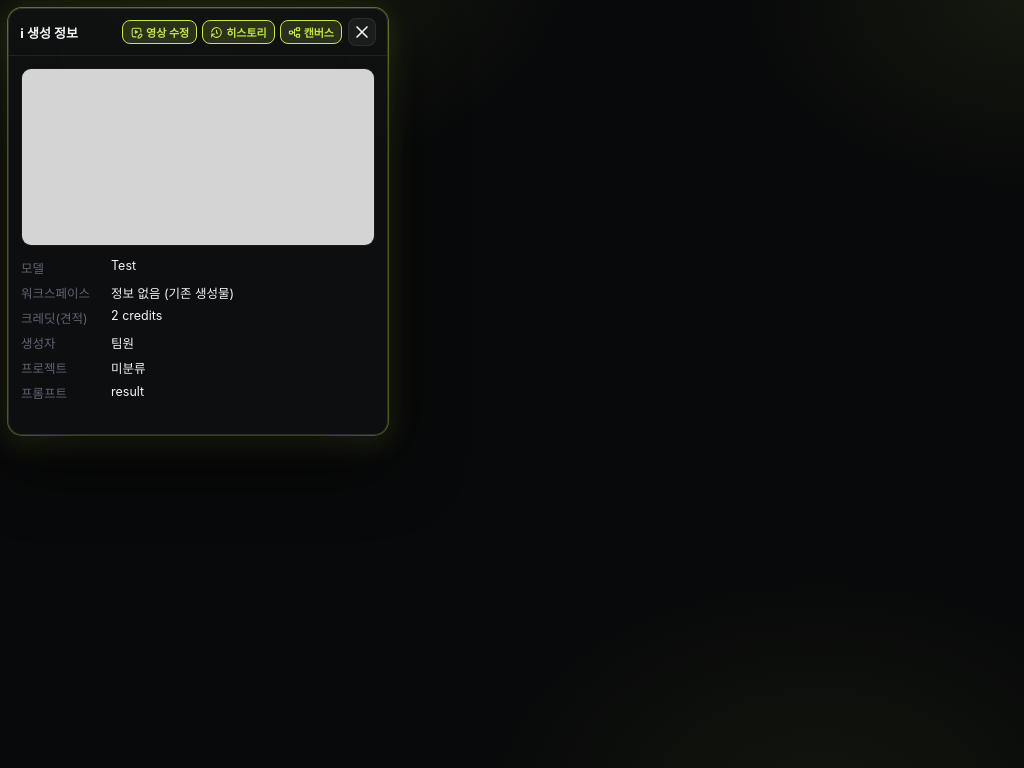
Test: narration generation › shows only the matching edit button in the header, left of history
The width and height of the screenshot is (1024, 768).
Click the button "영상 수정" at (160, 32), box [122, 20, 197, 44]
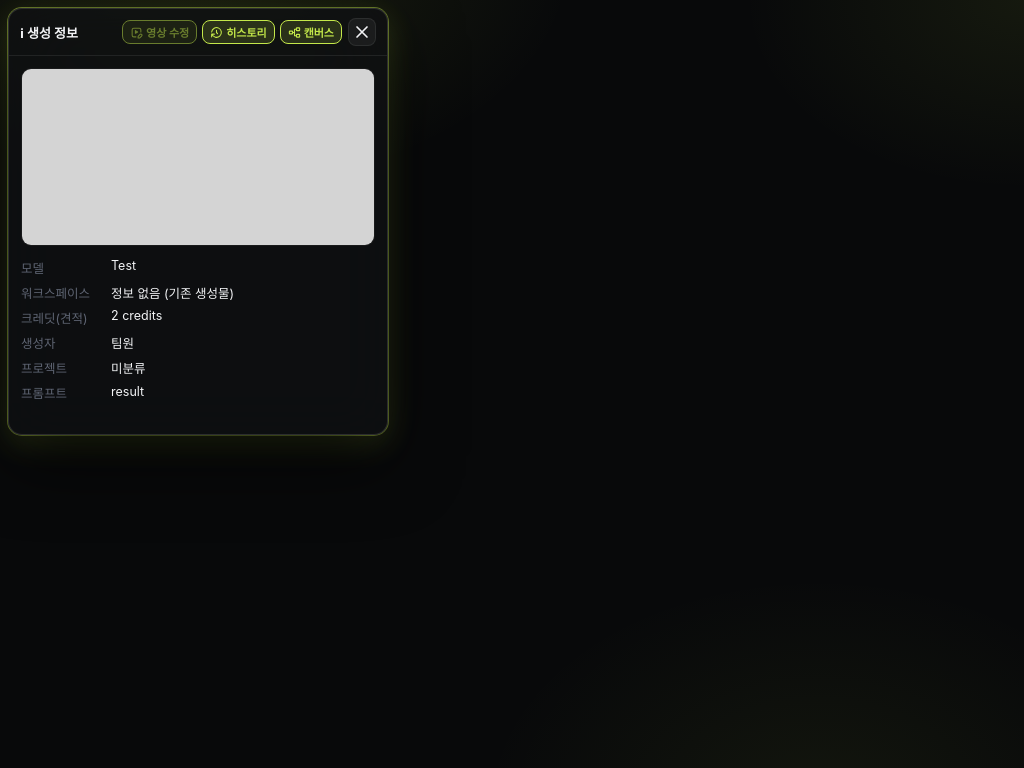
Result: the button "영상 수정" is disabled at [122, 20, 197, 44]
